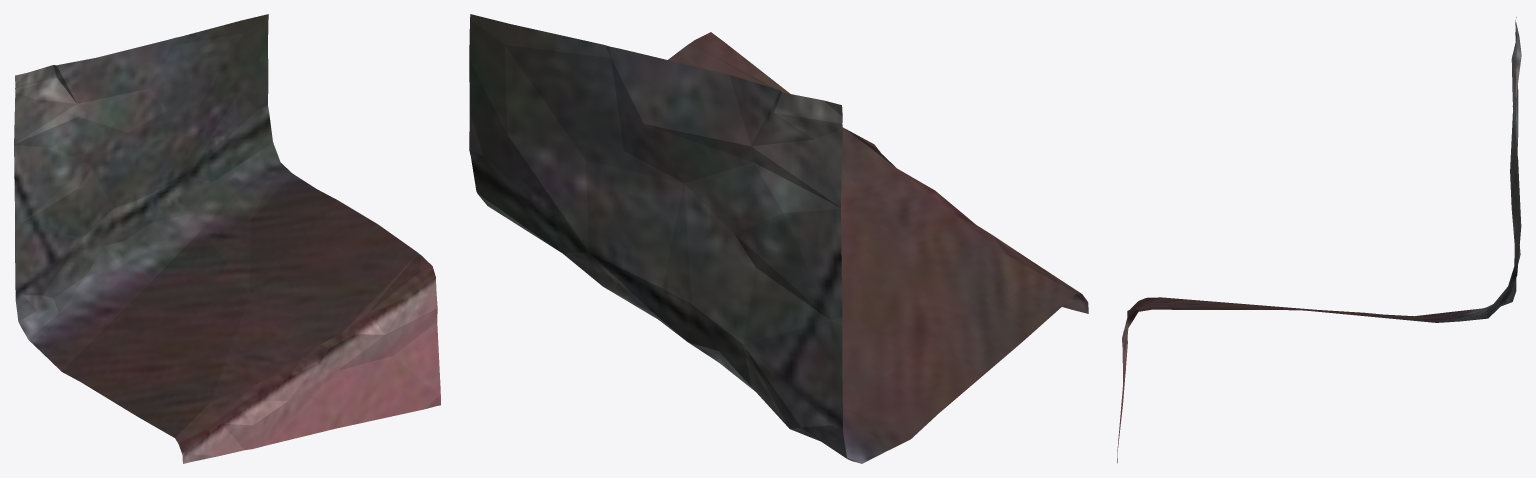
File: Tile_+001_+007_L24_0011132.obj
The picture shows the model from 3 angles, left to right: view 1: azimuth 30°, elevation 25°; view 2: azimuth 150°, elevation 25°; view 3: azimuth 270°, elevation 25°; orthographic projection. The views are drawn at different scales.
Size of the model in its own units: 0.9531 by 0.9531 by 1.14.
1 material, 1 textured.
